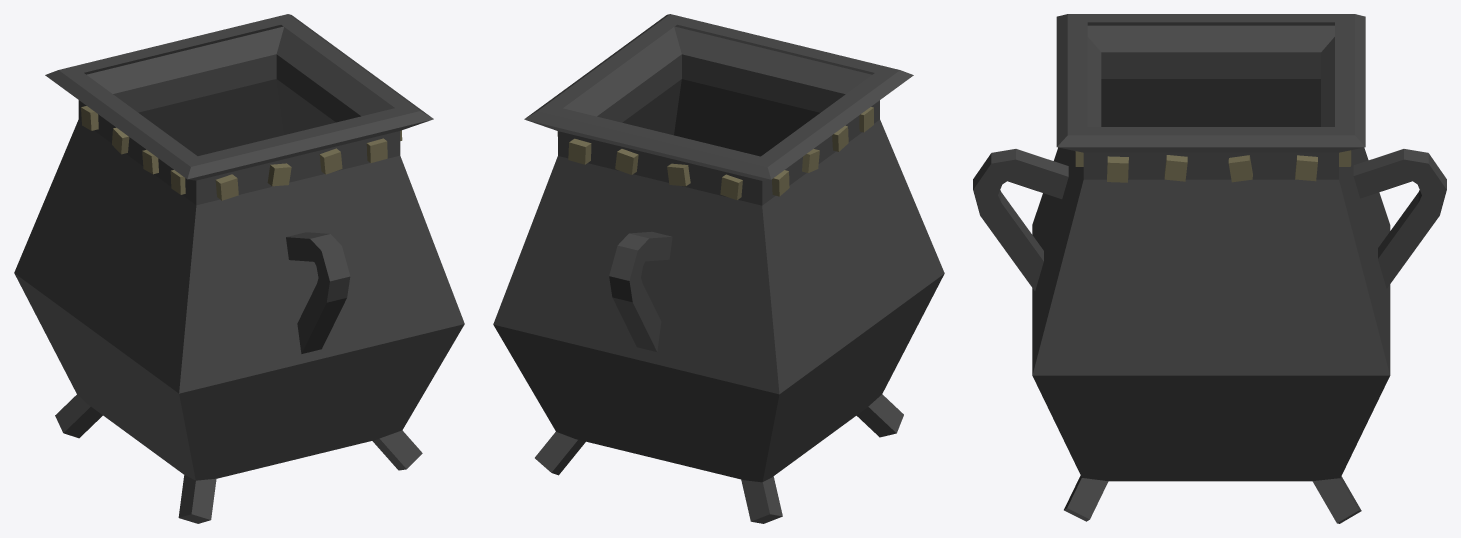
Rendered from item_cauldron.fbx.
The picture shows the model from 3 angles, left to right: view 1: azimuth 30°, elevation 25°; view 2: azimuth 150°, elevation 25°; view 3: azimuth 270°, elevation 25°; orthographic projection. The views are drawn at different scales.
Parts seen in each view (by area): view 1: item_cauldron; view 2: item_cauldron; view 3: item_cauldron.
Boxes of the visible parts, x1,y1,x2,y2 form: item_cauldron: (14,14,464,523); item_cauldron: (493,14,944,523); item_cauldron: (973,14,1446,523).
Bounding box in the file's own units: 280 × 342 × 371.
